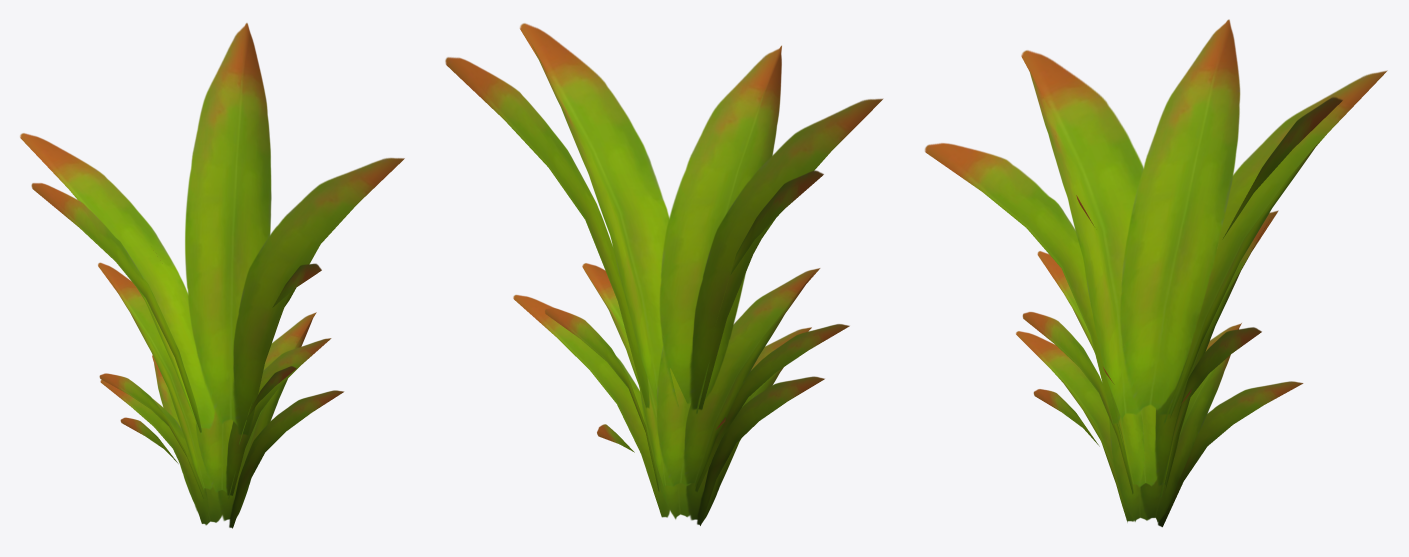
Rendered from plant-big-2.glb.
The picture shows the model from 3 angles, left to right: view 1: azimuth 30°, elevation 25°; view 2: azimuth 150°, elevation 25°; view 3: azimuth 270°, elevation 25°; orthographic projection. The views are drawn at different scales.
Visible parts, largest first — view 1: Plant_1_Big; view 2: Plant_1_Big; view 3: Plant_1_Big.
Part boxes in pixels (box(x1,y1,x2,y2)): Plant_1_Big: box(20, 23, 404, 528); Plant_1_Big: box(445, 23, 883, 525); Plant_1_Big: box(924, 19, 1387, 527).
Bounding box in the file's own units: 2.89 × 3.76 × 3.13.
1 material, 1 textured.
